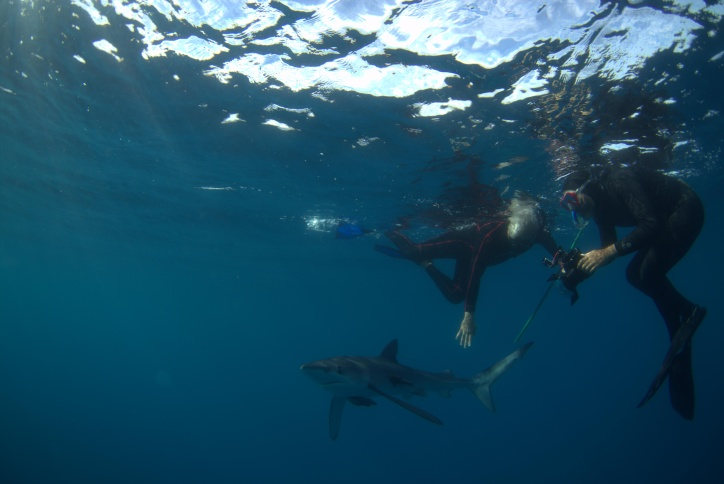Azul: (273, 311, 558, 447)
